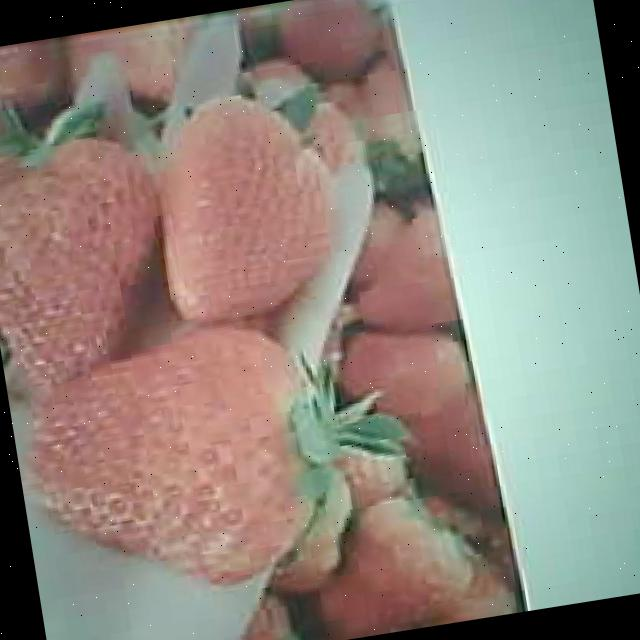strawberry: (14, 312, 352, 613), (138, 81, 348, 324), (0, 122, 175, 392), (309, 487, 480, 640)
